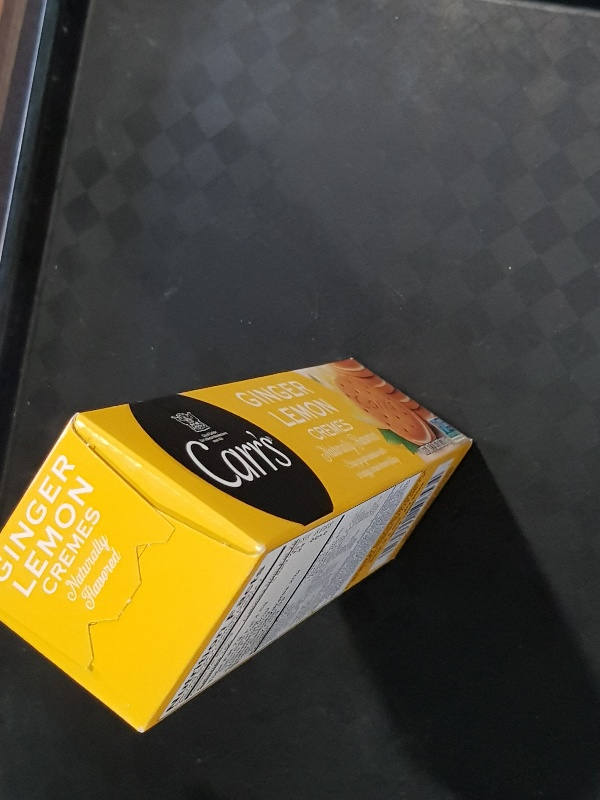Carr's Ginger Lemon Cremes: (1, 355, 473, 733)
